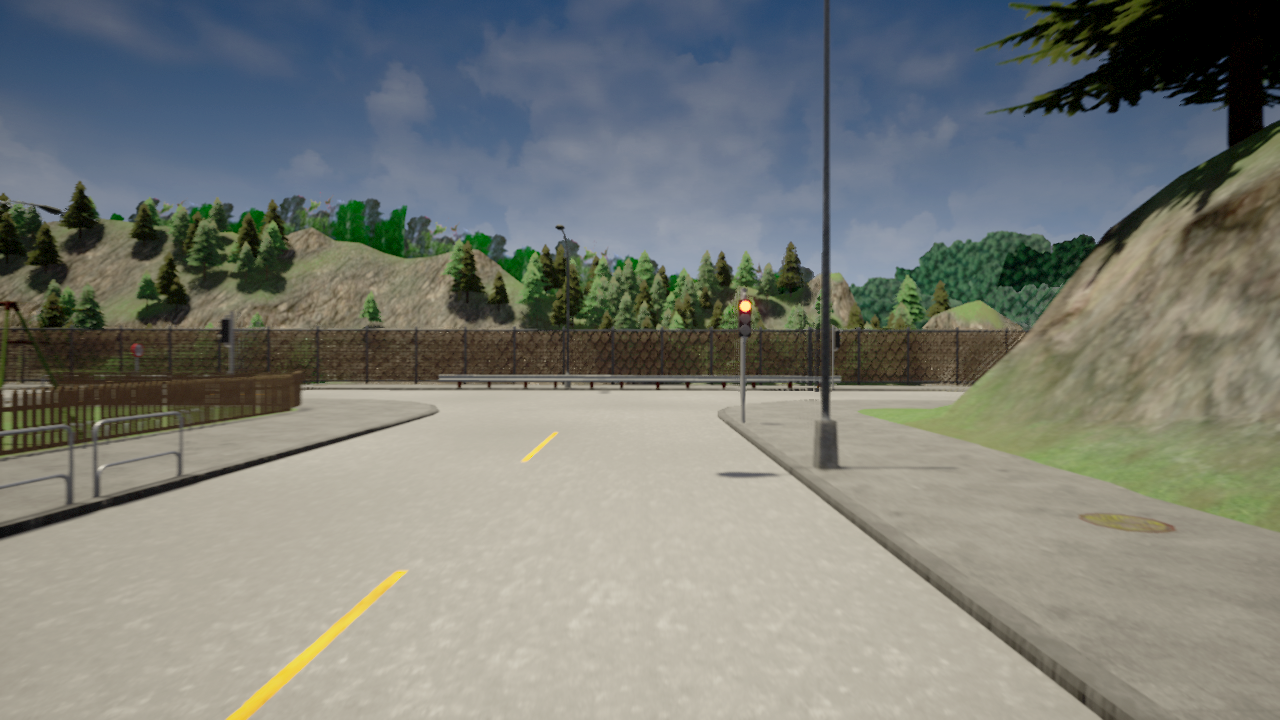red: (735, 297, 751, 339)
